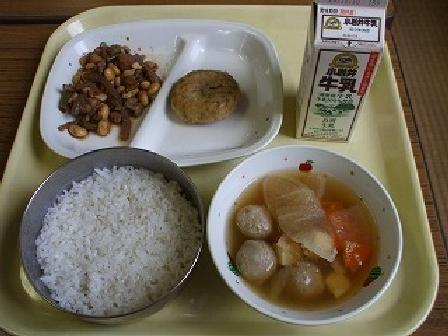Milk: (283, 0, 397, 152)
Rice: (23, 158, 202, 312)
cooked food based on meat: (50, 32, 165, 143)
cutlet: (168, 67, 249, 133)
meat based soup: (211, 151, 386, 309)
